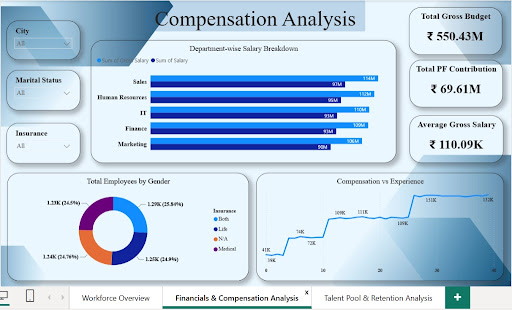

Layout of this report page (visuals, bound fields, positions):
{"tool":"powerbi","page":{"name":"Financials & Compensation Analysis","canvas":[1280,720],"ordinal":1},"visuals":[{"type":"shape","title":"Compensation Analysis","box":[362.7,0,551.9,77.9],"z":0},{"type":"slicer","fields":{"Values":["Employee_Data.City"]},"box":[14.3,50.9,184.5,98.6],"z":1000},{"type":"slicer","fields":{"Values":["Employee_Data.Marital Status"]},"box":[14.3,175,184.5,101.8],"z":2000},{"type":"cardVisual","title":"Total Gross Budget","fields":{"Data":["Sum(Employee_Data.Gross Salary)"]},"box":[1030.7,17.5,233.8,119.3],"z":3000},{"type":"cardVisual","title":"Average Gross Salary","fields":{"Data":["Avg(Employee_Data.Gross Salary)"]},"box":[1032.3,289.5,235.4,119.3],"z":4000},{"type":"cardVisual","title":"Total PF Contribution","fields":{"Data":["Sum(Employee_Data.PF)"]},"box":[1032.3,149.5,233.8,119.3],"z":5000},{"type":"clusteredBarChart","title":"Department-wise Salary Breakdown","fields":{"Category":["Employee_Data.Department"],"Y":["Sum(Employee_Data.Gross Salary)","Sum(Employee_Data.Salary)"]},"box":[225.9,100.2,766.7,308.6],"z":6000},{"type":"lineChart","title":"Compensation vs Experience","fields":{"Category":["Employee_Data.Year of Experience"],"Y":["Avg(Employee_Data.Gross Salary)"]},"box":[663.3,434.2,602.8,272],"z":7000},{"type":"donutChart","title":"Total Employees by Gender","fields":{"Category":["Employee_Data.Insurance"],"Y":["CountNonNull(Employee_Data.Name)"]},"box":[14.3,440.6,594.9,265.6],"z":8000},{"type":"slicer","fields":{"Values":["Employee_Data.Insurance"]},"box":[14.3,308.6,184.5,101.8],"z":9000}]}

Visuals, with their boxes on the page's 1280x720 design canvas (x1, y1, x2, y2). These are canvas units, not pixel positions in the 512x310 screenshot, which may show the page scaled, cropped or inside an application window:
"Compensation Analysis" shape: 363,0,915,78
slicer - Employee_Data.City: 14,51,199,150
slicer - Employee_Data.Marital Status: 14,175,199,277
"Total Gross Budget" cardVisual: 1031,18,1264,137
"Average Gross Salary" cardVisual: 1032,290,1268,409
"Total PF Contribution" cardVisual: 1032,150,1266,269
"Department-wise Salary Breakdown" clusteredBarChart: 226,100,993,409
"Compensation vs Experience" lineChart: 663,434,1266,706
"Total Employees by Gender" donutChart: 14,441,609,706
slicer - Employee_Data.Insurance: 14,309,199,410
